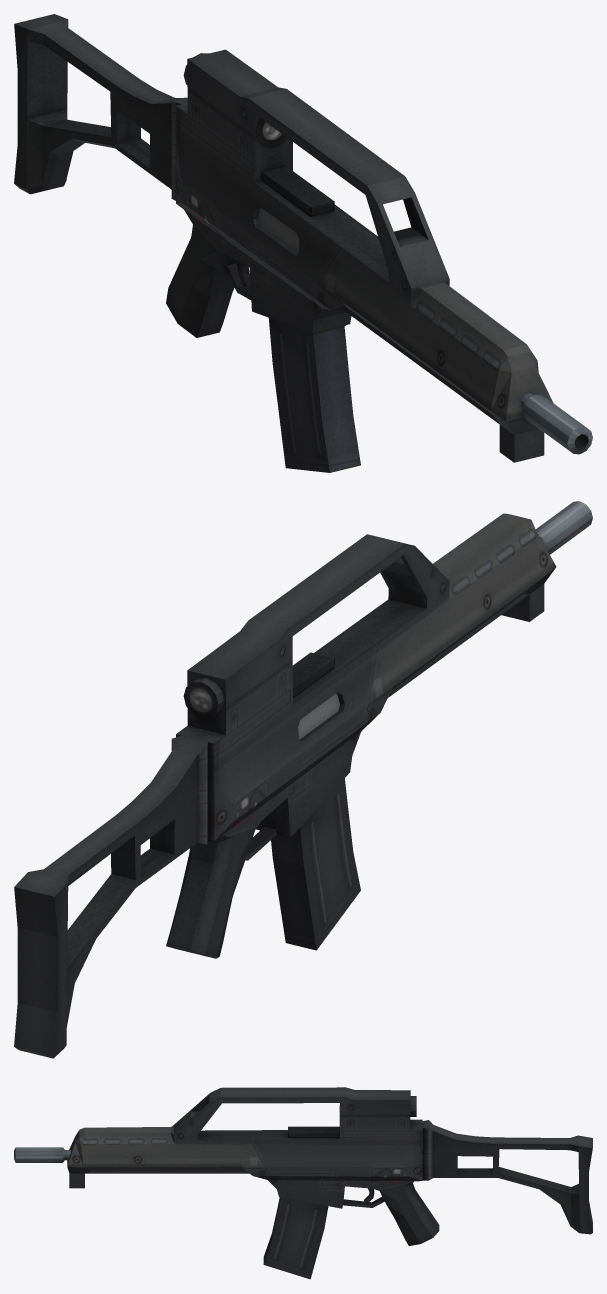
File: armygun.obj
3 views of the same model, one above another, from view 1: azimuth 30°, elevation 25°; view 2: azimuth 150°, elevation 25°; view 3: azimuth 270°, elevation 25° (orthographic). The views are drawn at different scales.
Visible parts, largest first — view 1: Default; view 2: Default; view 3: Default.
Part boxes in pixels (x1,y1,x2,y2): Default: (14, 14, 592, 472); Default: (14, 501, 592, 1058); Default: (14, 1087, 592, 1279).
Bounding box in the file's own units: 0.2982 × 1.96 × 5.6.
Materials: 1 (1 with a texture image).
